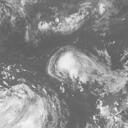cyclone: (0, 90, 45, 127), (49, 45, 85, 81)
